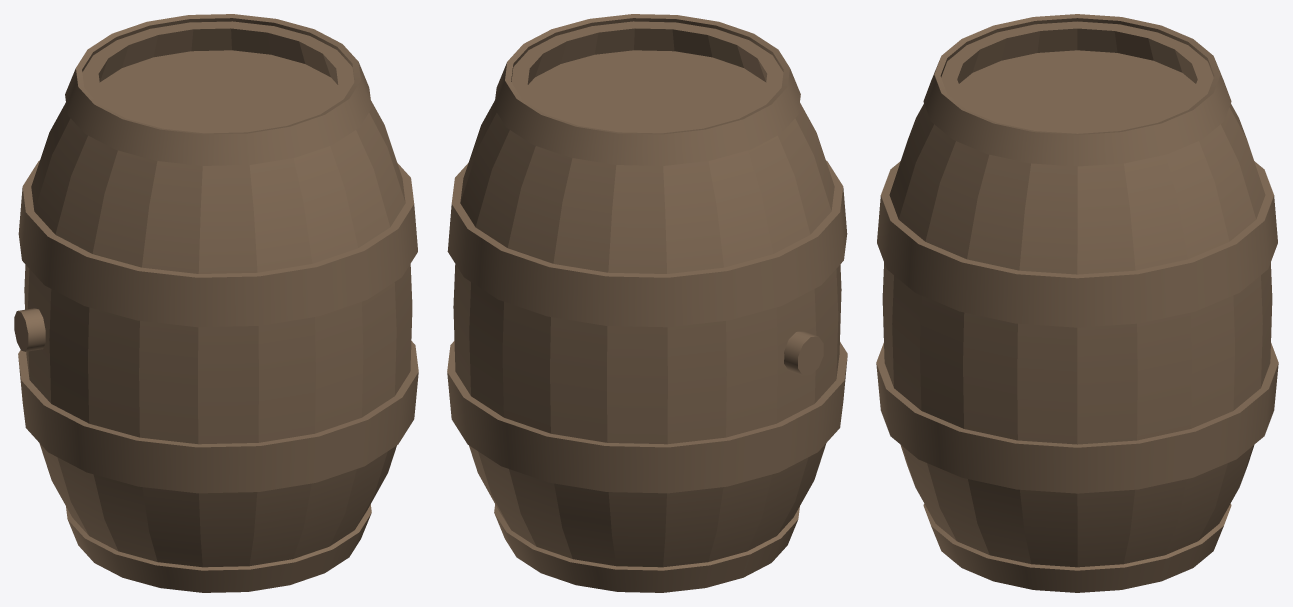
Rendered from Barrel_03_LOD0_Mesh.fbx.
3 renders of one model, left to right at view 1: azimuth 30°, elevation 25°; view 2: azimuth 150°, elevation 25°; view 3: azimuth 270°, elevation 25°, orthographic.
Parts seen in each view (by area): view 1: Barrel03; view 2: Barrel03; view 3: Barrel03.
Boxes of the visible parts, x1,y1,x2,y2 form: Barrel03: (14,14,418,592); Barrel03: (447,14,847,592); Barrel03: (876,14,1278,592).
Size of the model in its own units: 86.06 by 105 by 83.95.
